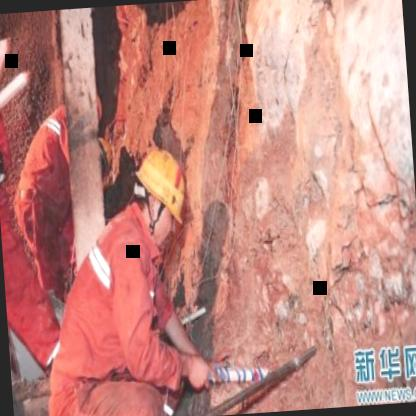helmet: (127, 142, 190, 244)
